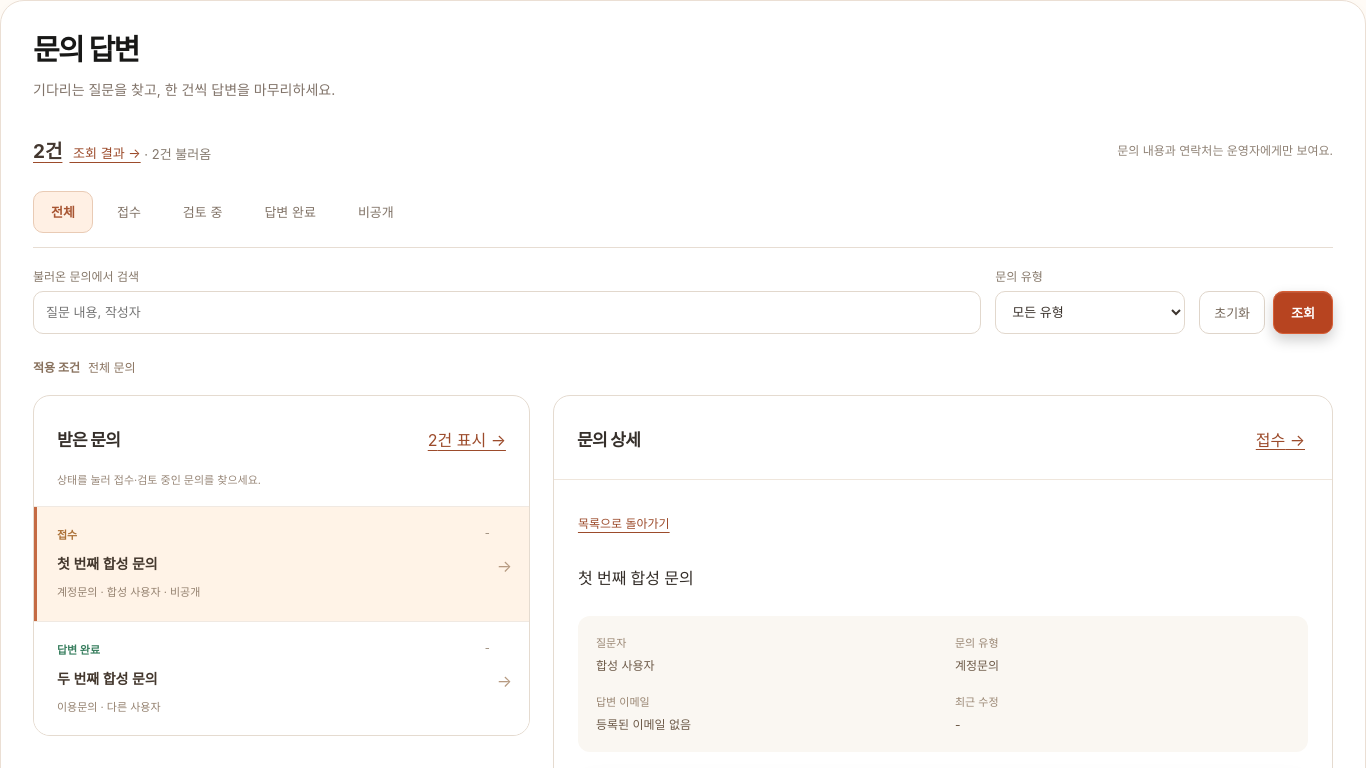
Scenario: operator Q&A status shortcuts use the existing server filter and local search is explicit
Expected: the button "접수 - 첫 번째 합성 문의 계정문의 · 합성 사용자 · 비공개 →" is shown, [34,507,529,621]
Click the button "검토 중". click: (203, 212)
box: [165,191,240,233]
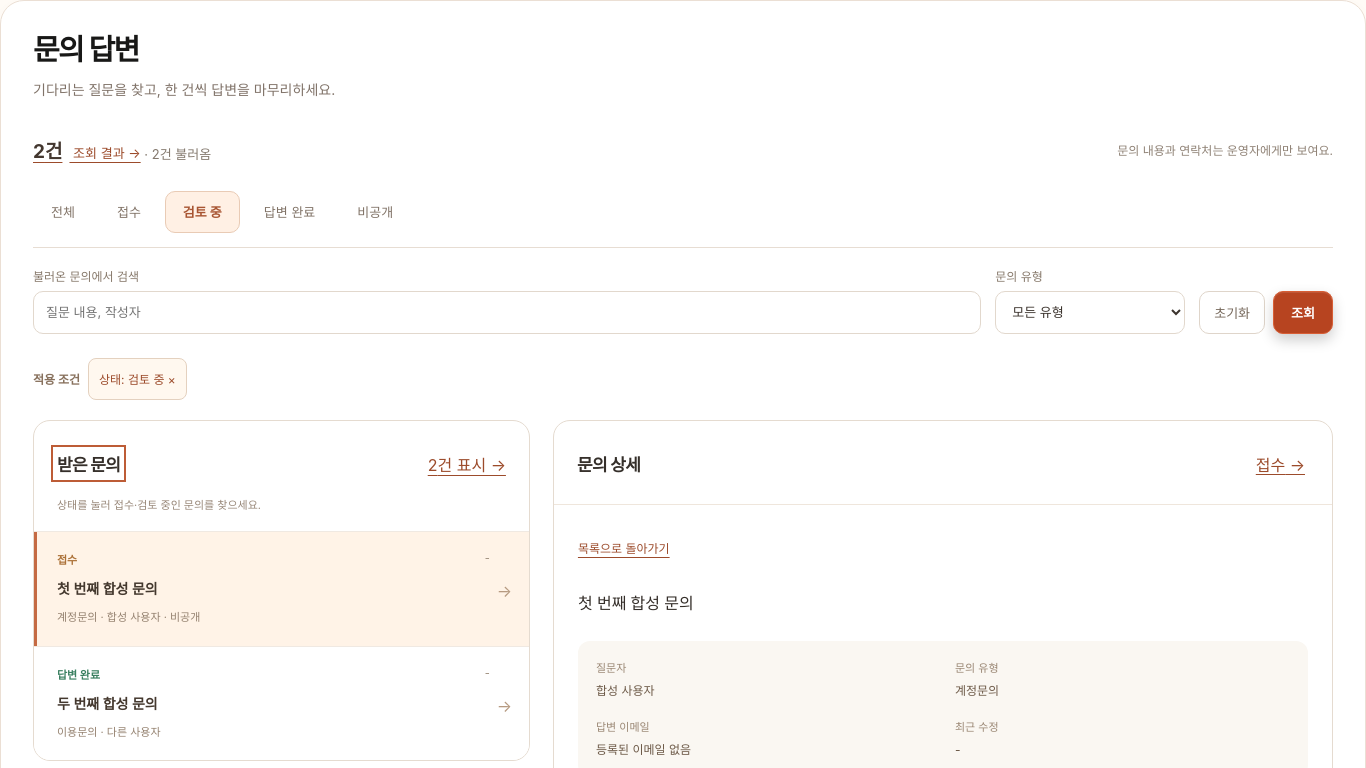
Type "두 번째" into the search field labelled "불러온 문의에서 검색". click: (507, 312)
box: [33,291,981,334]
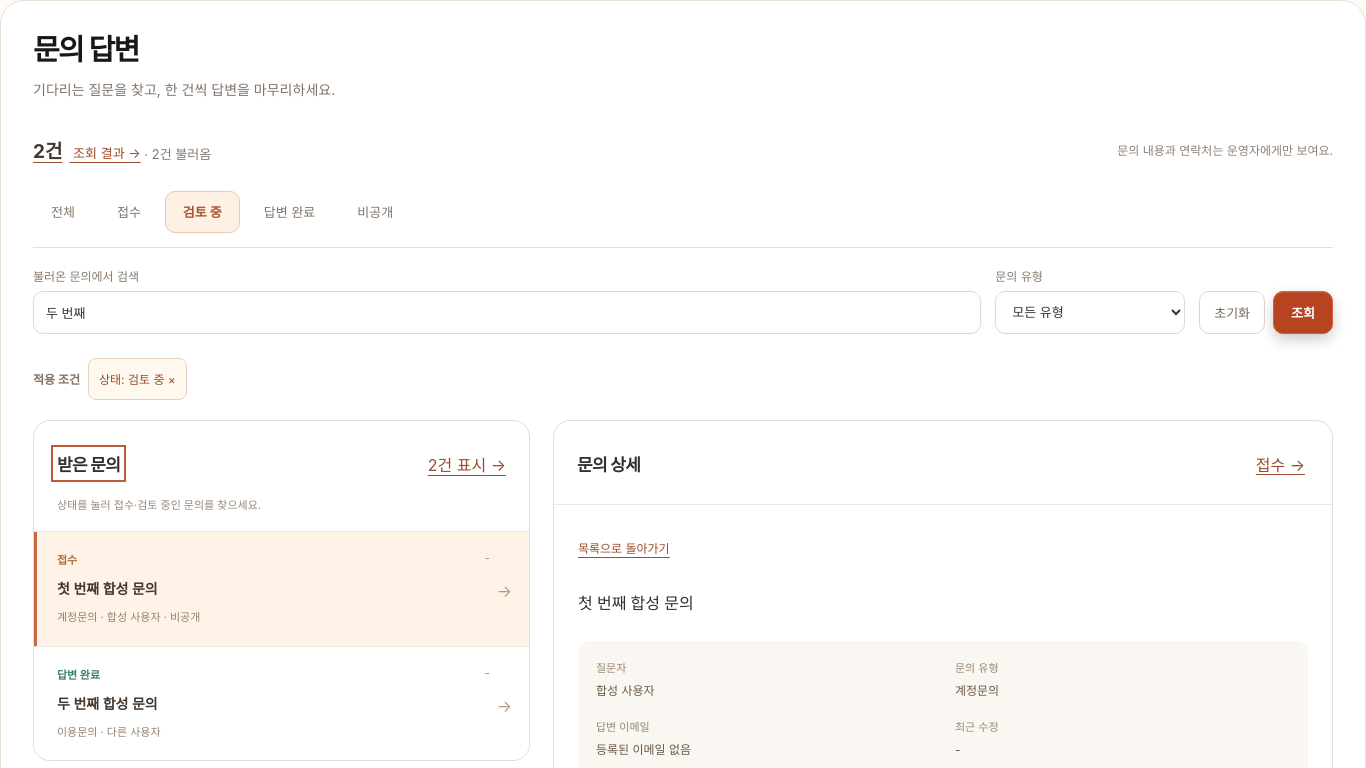
Click the button "조회". click: (1303, 312)
box: [1273,291,1333,334]
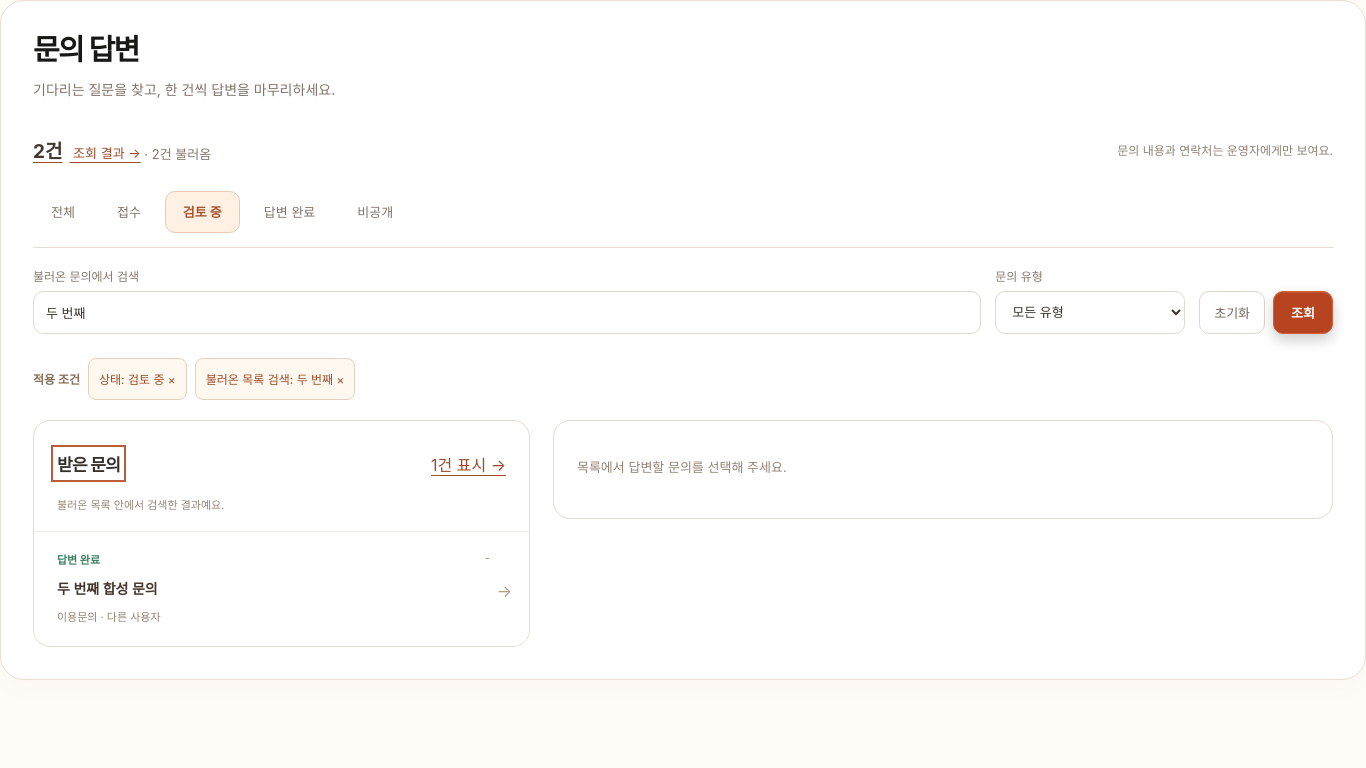
Result: the button "첫 번째 합성 문의" is gone
Result: the text "불러온 목록 안에서 검색한 결과예요." is shown at [57,498,224,512]
